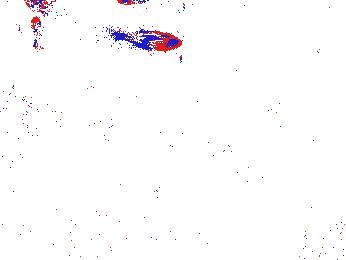X-ray fish: (1, 87, 40, 128), (25, 1, 79, 15), (29, 17, 46, 50)
red belly glassfish: (113, 29, 183, 53)
